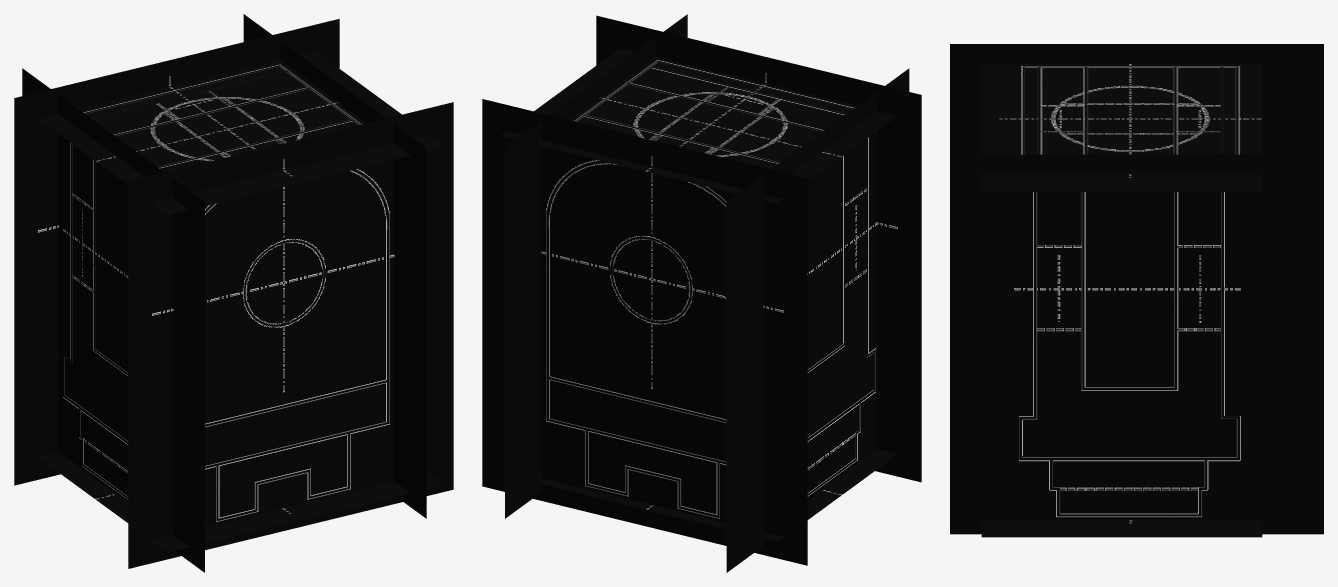
The model's file is N3_full.fbx.
3 renders of one model, left to right at view 1: azimuth 30°, elevation 25°; view 2: azimuth 150°, elevation 25°; view 3: azimuth 270°, elevation 25°, orthographic. The views are drawn at different scales.
Parts seen in each view (by area): view 1: N3_Inferior_Final; view 2: N3_Inferior_Final; view 3: N3_Inferior_Final.
Boxes of the visible parts, x1,y1,x2,y2 form: N3_Inferior_Final: [14, 14, 453, 572]; N3_Inferior_Final: [482, 14, 921, 572]; N3_Inferior_Final: [950, 44, 1323, 537].
Size of the model in its own units: 125 by 142 by 121.
